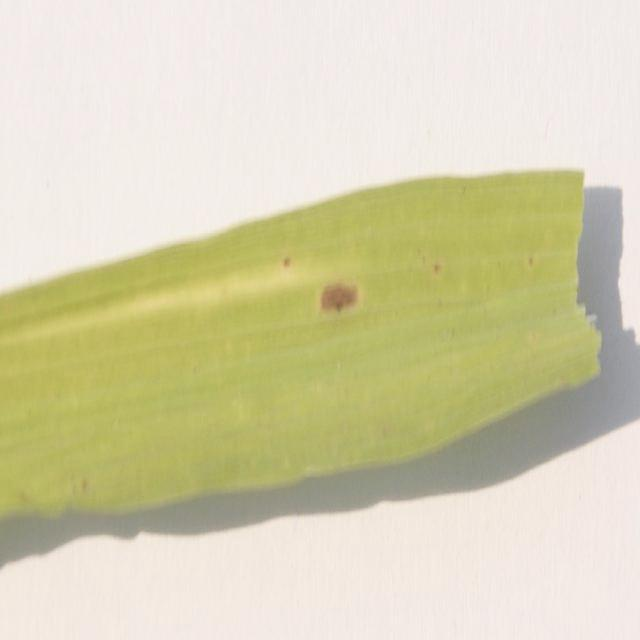Brownspot: (321, 283, 357, 310), (18, 490, 29, 503), (432, 262, 441, 274), (81, 478, 88, 491), (282, 256, 290, 267), (528, 255, 533, 266)
